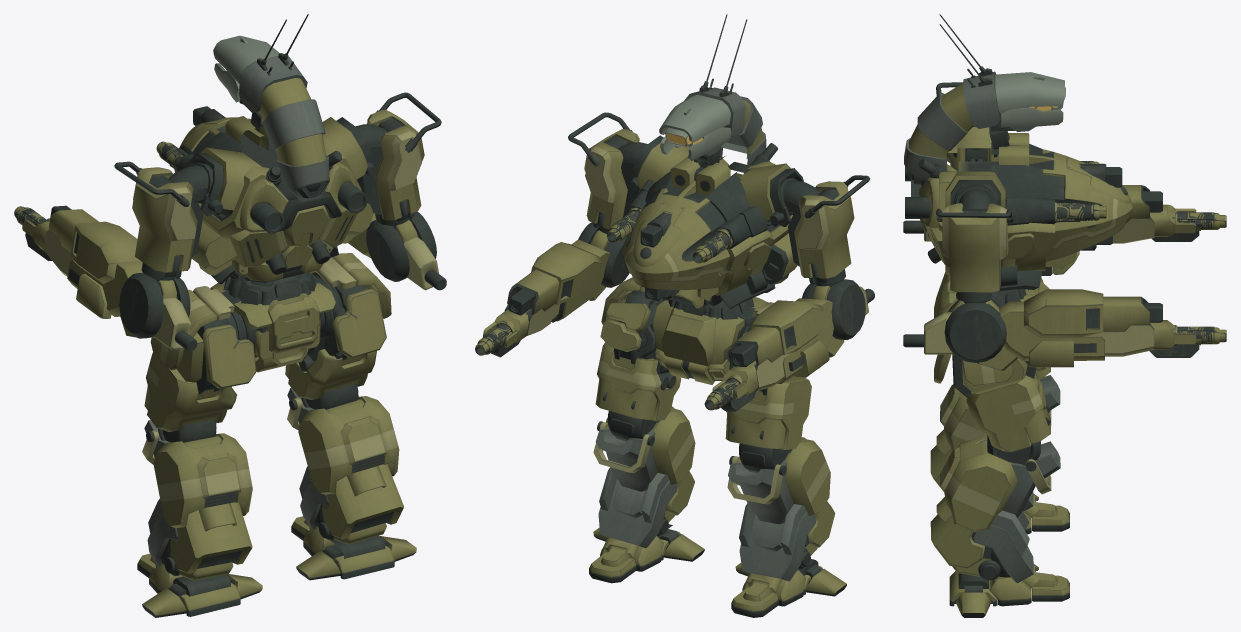
The model's file is Annihilator.glb.
3 renders of one model, left to right at view 1: azimuth 30°, elevation 25°; view 2: azimuth 150°, elevation 25°; view 3: azimuth 270°, elevation 25°, orthographic. The views are drawn at different scales.
Parts seen in each view (by area): view 1: CenterTorso_CoreAndPelvis, LeftLeg_Shin, RightLeg_Shin, LeftArm_ForearmAndFist, LeftLeg_Thigh, LeftTorso_TorsoShell, RightLeg_Thigh, LeftArm_ShoulderAndUpperarm, RightArm_ShoulderAndUpperarm, RightTorso_TorsoShell, RightArm_ForearmAndFist, LeftLeg_Foot (+4 smaller); view 2: CenterTorso_CoreAndPelvis, LeftLeg_Shin, RightLeg_Shin, LeftTorso_TorsoShell, RightLeg_Thigh, LeftArm_ForearmAndFist, RightArm_ForearmAndFist, LeftArm_ShoulderAndUpperarm, LeftLeg_Thigh, RightArm_ShoulderAndUpperarm, LeftLeg_Foot, RightLeg_Foot (+7 smaller); view 3: RightArm_ForearmAndFist, CenterTorso_CoreAndPelvis, RightLeg_Shin, RightTorso_TorsoShell, RightLeg_Thigh, RightArm_ShoulderAndUpperarm, RightLeg_Foot, Head_CockpitFrame, LeftLeg_Shin, RightArm_Weapon4, LeftArm_Weapon6, LeftArm_ForearmAndFist (+5 smaller).
Boxes of the visible parts, x1,y1,x2,y2 form: CenterTorso_CoreAndPelvis: (174, 14, 341, 372); LeftLeg_Shin: (142, 420, 252, 580); RightLeg_Shin: (287, 388, 403, 544); LeftArm_ForearmAndFist: (43, 209, 197, 351); LeftLeg_Thigh: (144, 286, 256, 442); LeftTorso_TorsoShell: (176, 132, 288, 284); RightLeg_Thigh: (285, 253, 391, 409); LeftArm_ShoulderAndUpperarm: (114, 161, 212, 282); RightArm_ShoulderAndUpperarm: (355, 92, 441, 229); RightTorso_TorsoShell: (299, 117, 377, 273); RightArm_ForearmAndFist: (348, 211, 446, 290); LeftLeg_Foot: (137, 553, 262, 617); CenterTorso_CoreAndPelvis: (623, 14, 768, 384); LeftLeg_Shin: (727, 437, 835, 581); RightLeg_Shin: (593, 406, 695, 548); LeftTorso_TorsoShell: (697, 143, 803, 309); RightLeg_Thigh: (595, 277, 681, 439); LeftArm_ForearmAndFist: (730, 279, 874, 391); RightArm_ForearmAndFist: (504, 222, 629, 336); LeftArm_ShoulderAndUpperarm: (779, 175, 869, 287); LeftLeg_Thigh: (725, 302, 820, 471); RightArm_ShoulderAndUpperarm: (568, 112, 647, 233); LeftLeg_Foot: (731, 559, 846, 617); RightLeg_Foot: (589, 524, 704, 583); RightArm_ForearmAndFist: (903, 289, 1154, 370); CenterTorso_CoreAndPelvis: (904, 14, 1133, 314); RightLeg_Shin: (930, 436, 1060, 583); RightTorso_TorsoShell: (905, 159, 1076, 291); RightLeg_Thigh: (934, 354, 1050, 465); RightArm_ShoulderAndUpperarm: (936, 186, 1013, 303); RightLeg_Foot: (949, 564, 1069, 617); Head_CockpitFrame: (995, 72, 1065, 131); LeftLeg_Shin: (930, 375, 1060, 511); RightArm_Weapon4: (1149, 320, 1226, 357); LeftArm_Weapon6: (1150, 204, 1226, 241); LeftArm_ForearmAndFist: (903, 185, 1154, 243).
Size of the model in its own units: 1.54 by 2.86 by 1.55.
4 materials, 2 textured.
